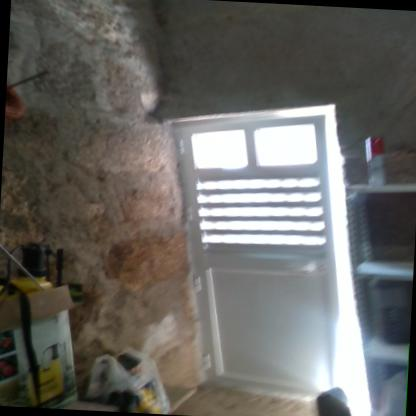closed: (155, 96, 344, 404)
